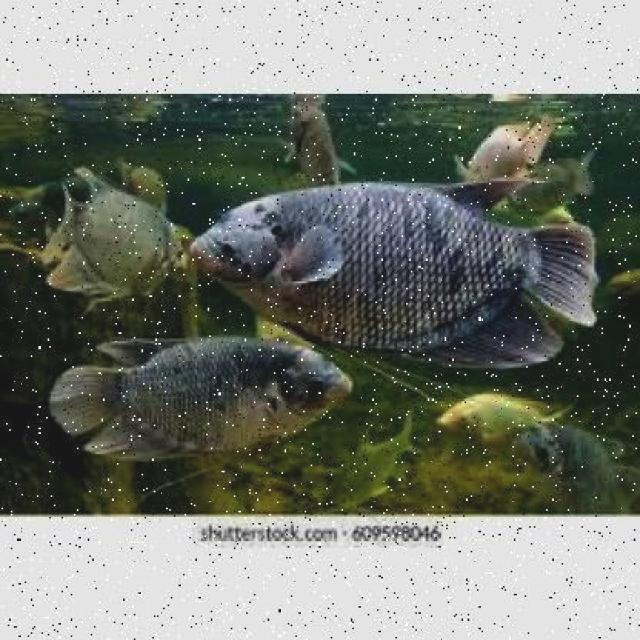gurame: (197, 186, 572, 349), (52, 328, 354, 463)
